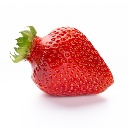strawberry: (10, 23, 115, 97)
